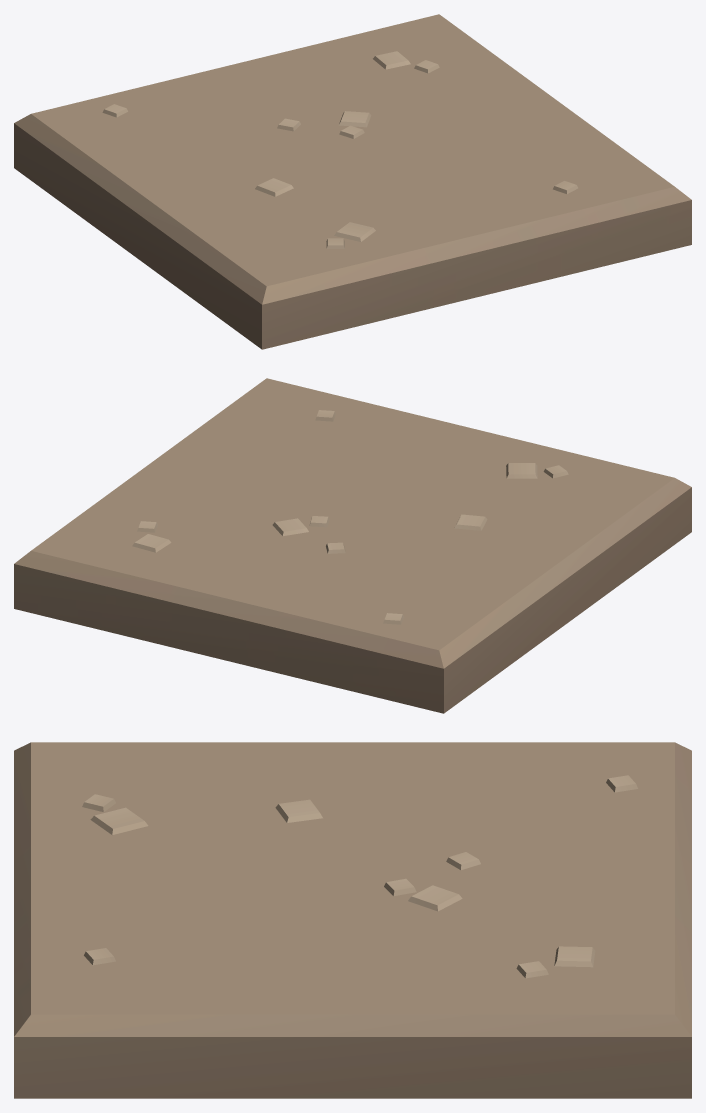
Rendered from kaykit-prototype-bits-floor-dirt.glb.
The picture shows the model from 3 angles, top to bottom: view 1: azimuth 30°, elevation 25°; view 2: azimuth 150°, elevation 25°; view 3: azimuth 270°, elevation 25°; orthographic projection. The views are drawn at different scales.
Parts seen in each view (by area): view 1: Floor_Dirt; view 2: Floor_Dirt; view 3: Floor_Dirt.
Part boxes in pixels (x1,y1,x2,y2): Floor_Dirt: (14,14,691,349); Floor_Dirt: (14,378,691,713); Floor_Dirt: (14,742,691,1098).
Size of the model in its own units: 4 by 0.5298 by 4.
Materials: 1 (1 with a texture image).
